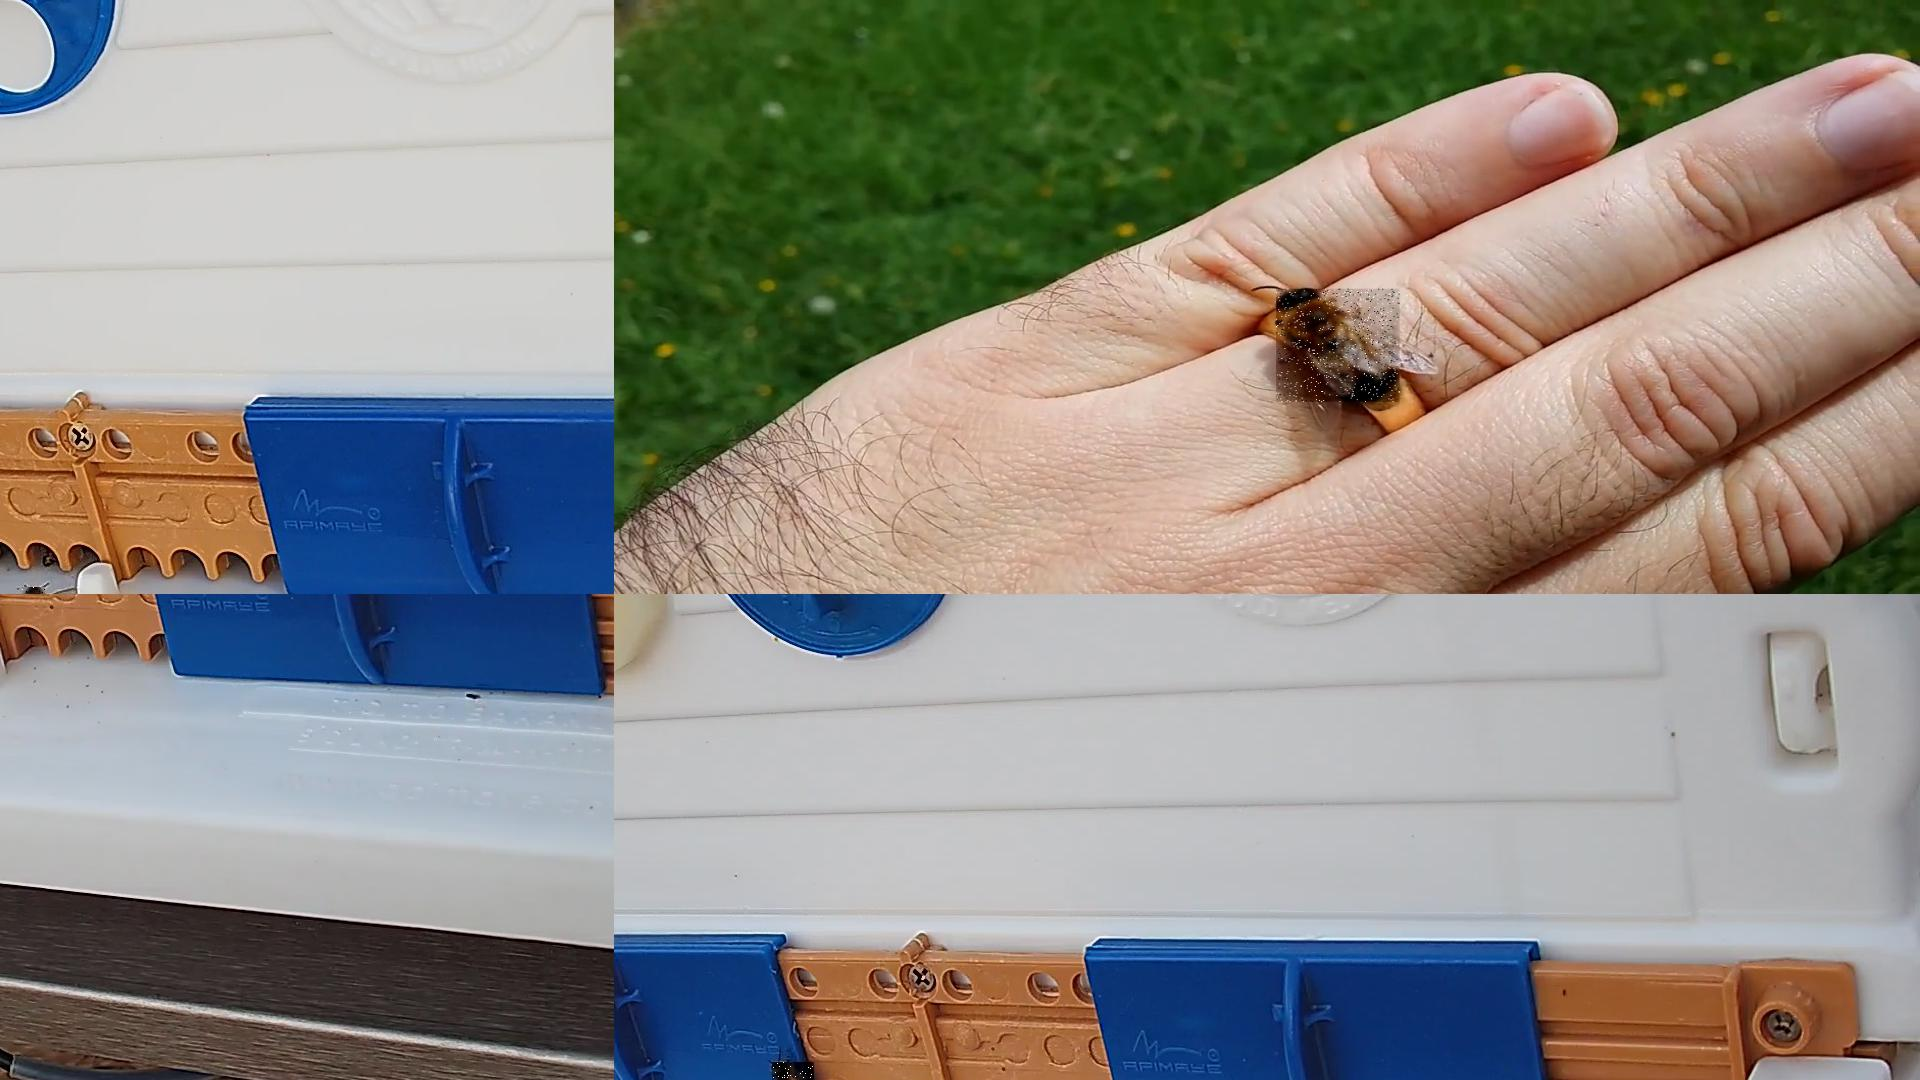bee: (771, 1062, 816, 1079)
drone: (1276, 289, 1400, 404)
